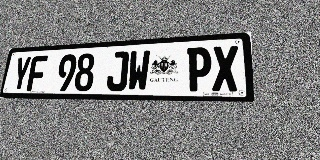8: (73, 53, 96, 91)
9: (55, 54, 78, 91)
F: (26, 55, 48, 91)
J: (106, 51, 129, 91)
P: (186, 47, 211, 91)
W: (127, 50, 151, 91)
X: (212, 45, 239, 91)
Y: (11, 56, 32, 91)
